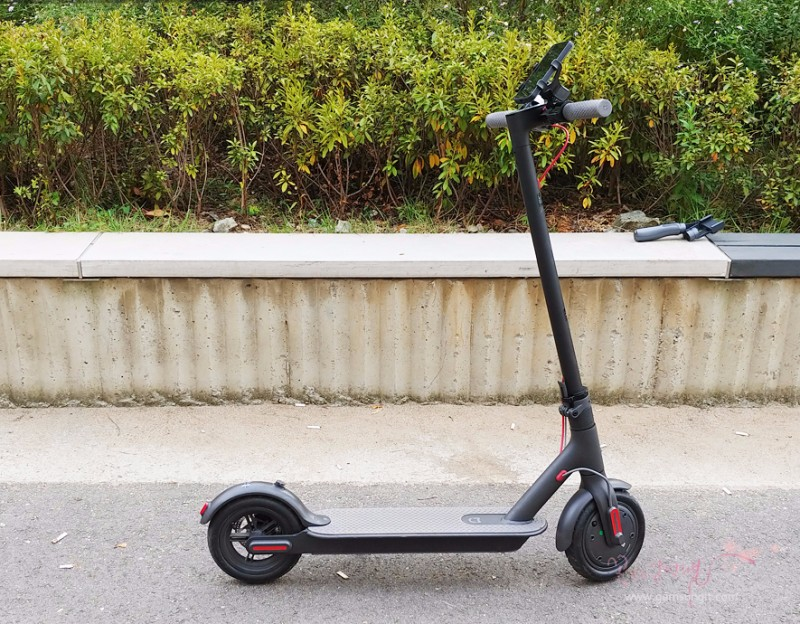scooter: (198, 45, 648, 590)
